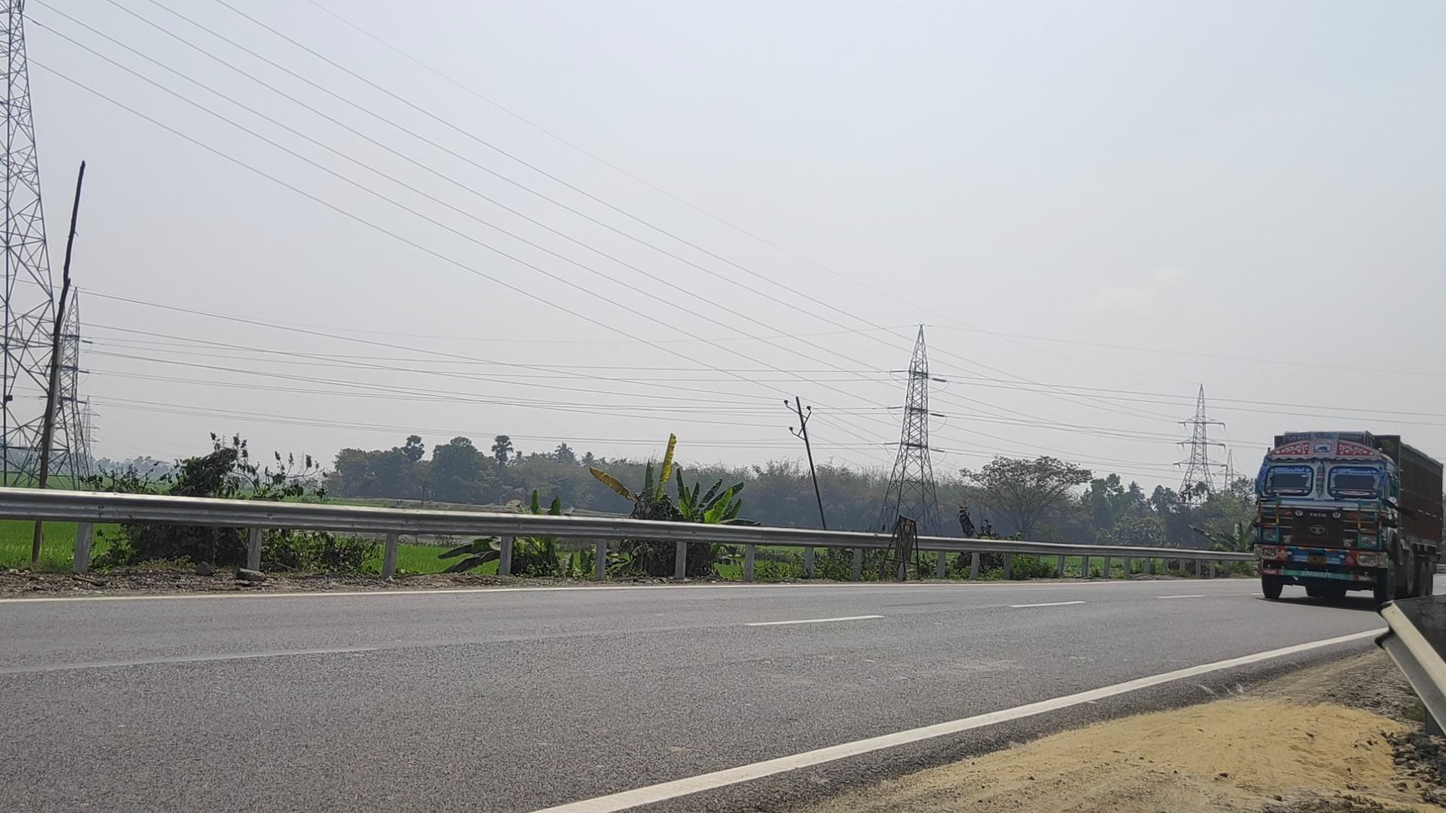truck: (1253, 430, 1446, 608)
